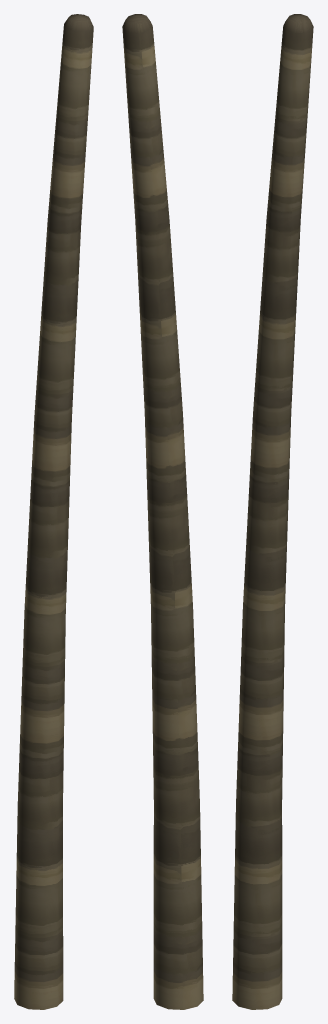
File: F_Palmtree_A.FBX
3 renders of one model, left to right at view 1: azimuth 30°, elevation 25°; view 2: azimuth 210°, elevation 25°; view 3: azimuth 330°, elevation 25°, orthographic.
Visible parts, largest first — view 1: F_Palmtree_A; view 2: F_Palmtree_A; view 3: F_Palmtree_A.
Boxes of the visible parts, x1,y1,x2,y2 form: F_Palmtree_A: [14, 14, 93, 1009]; F_Palmtree_A: [122, 14, 203, 1009]; F_Palmtree_A: [232, 14, 313, 1009].
Size of the model in its own units: 44.85 by 560 by 24.47.
1 material, 1 textured.
